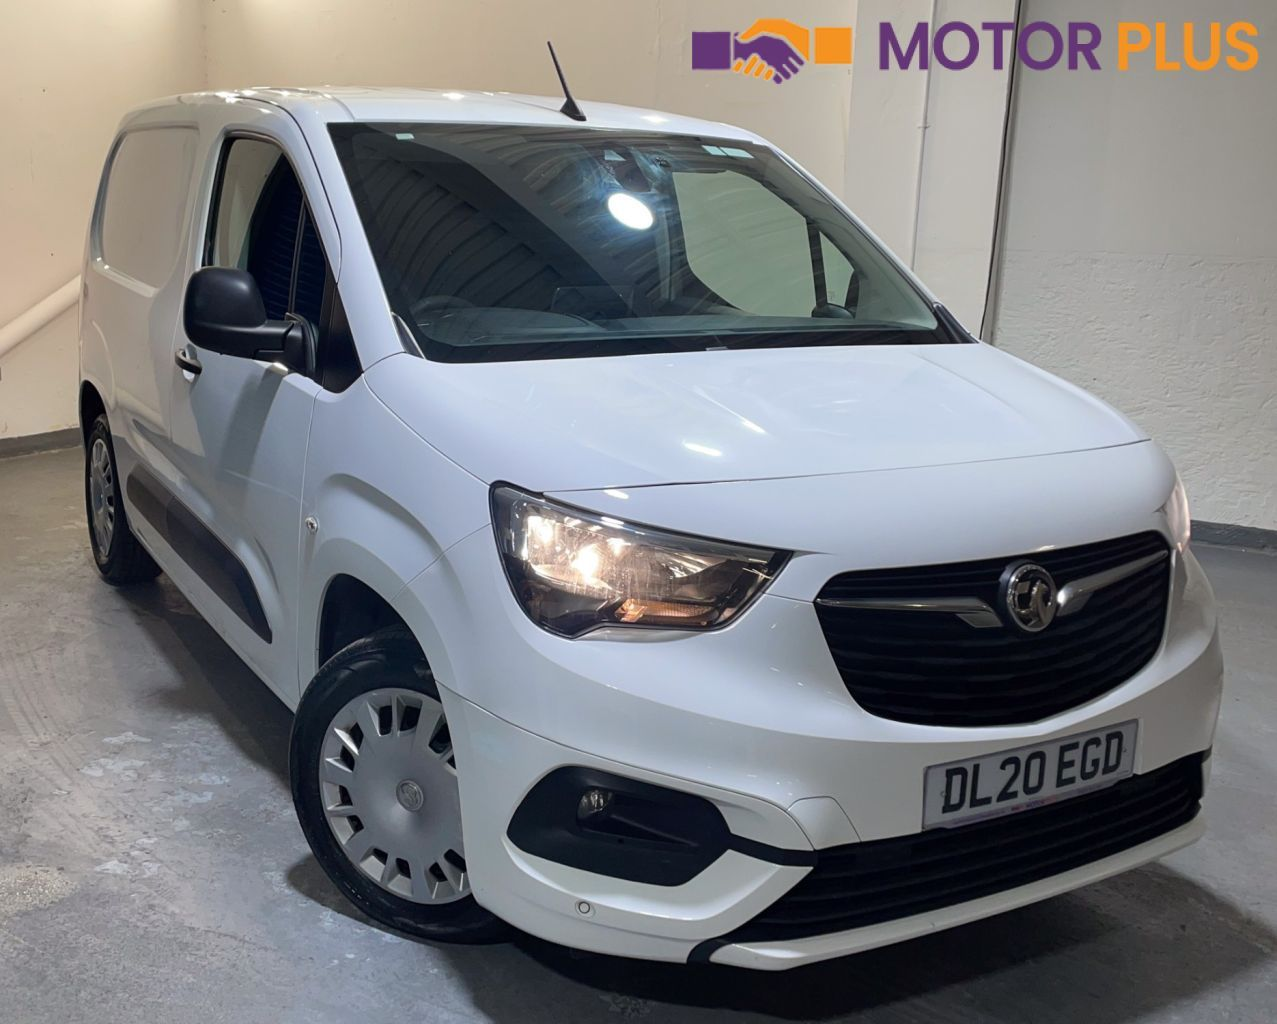car: (72, 76, 1230, 979)
